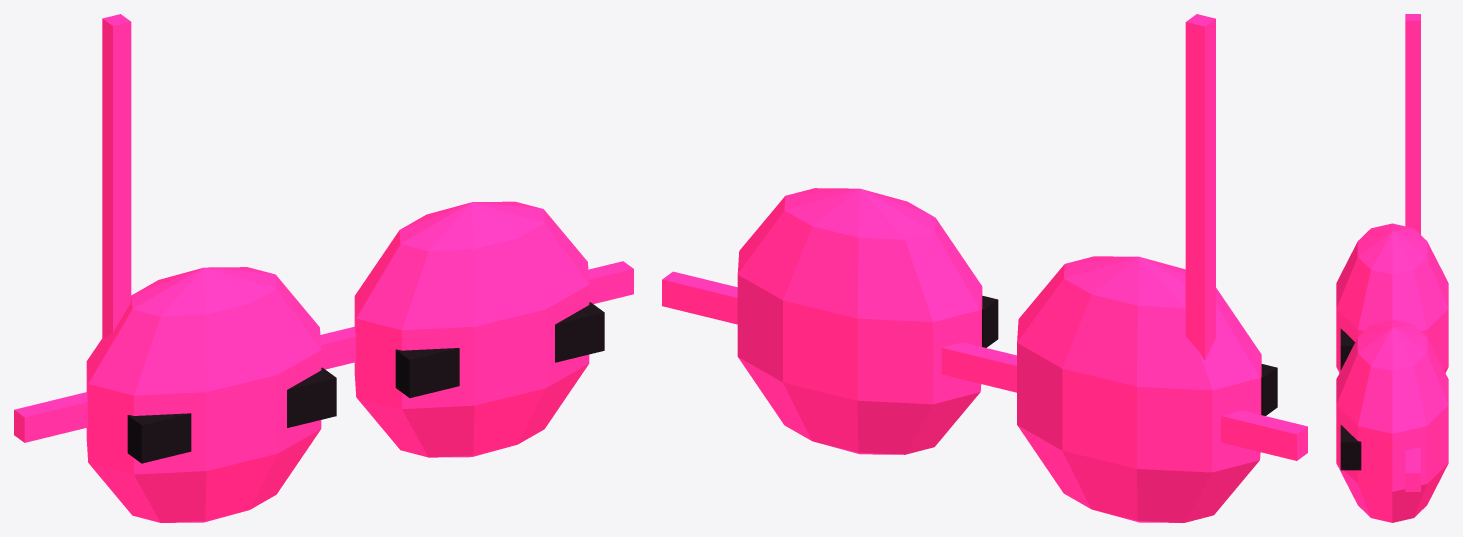
File: bra.glb
The picture shows the model from 3 angles, left to right: view 1: azimuth 30°, elevation 25°; view 2: azimuth 150°, elevation 25°; view 3: azimuth 270°, elevation 25°; orthographic projection. The views are drawn at different scales.
Visible parts, largest first — view 1: bra; view 2: bra; view 3: bra.
Part boxes in pixels (bbox=[...]): bra: bbox=[14, 14, 633, 522]; bra: bbox=[662, 14, 1307, 522]; bra: bbox=[1336, 14, 1448, 522].
Bounding box in the file's own units: 0.5 × 0.4 × 0.1085.
